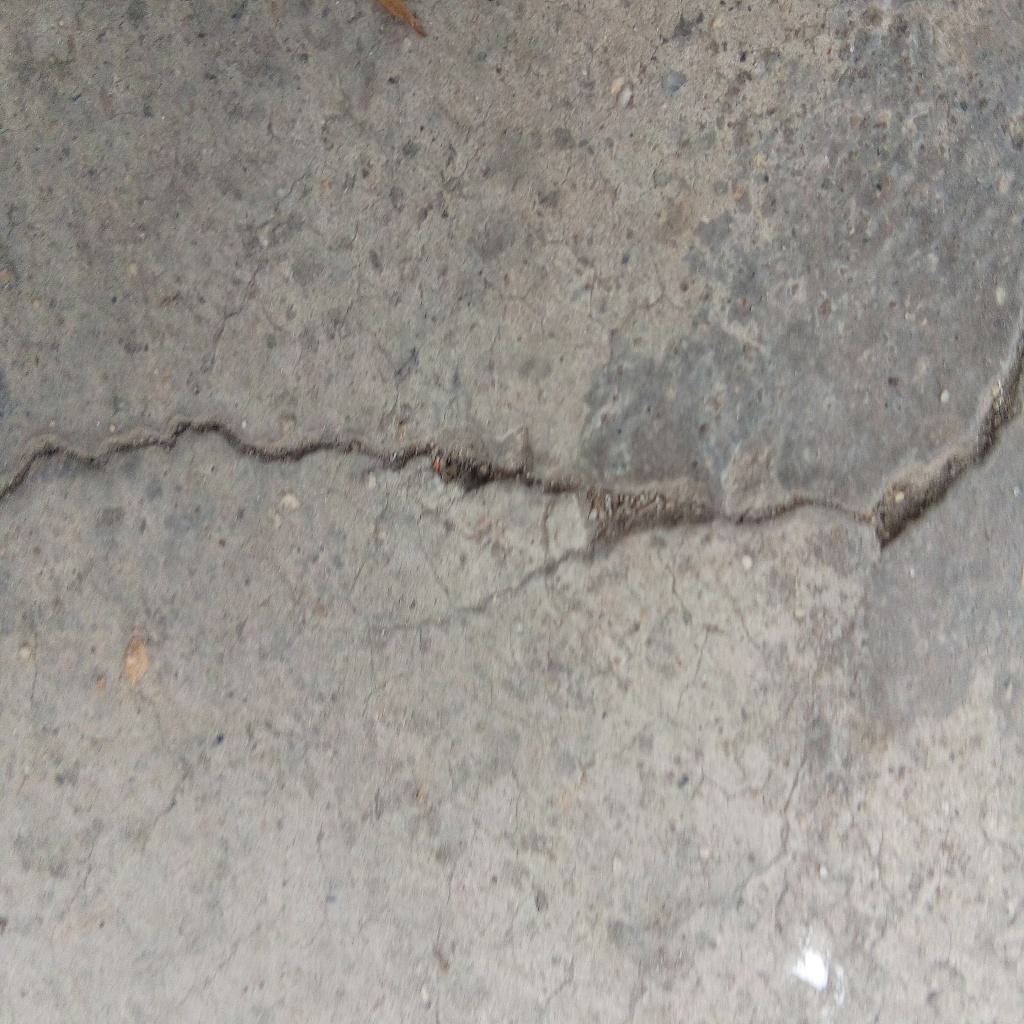Crack: (1, 312, 1024, 558)
